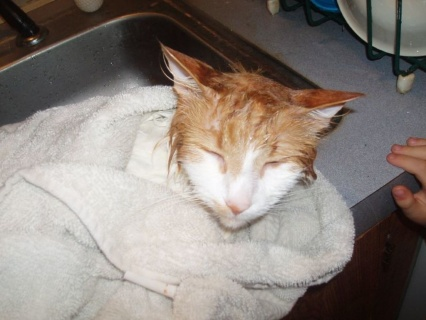Cat: (124, 37, 366, 234)
